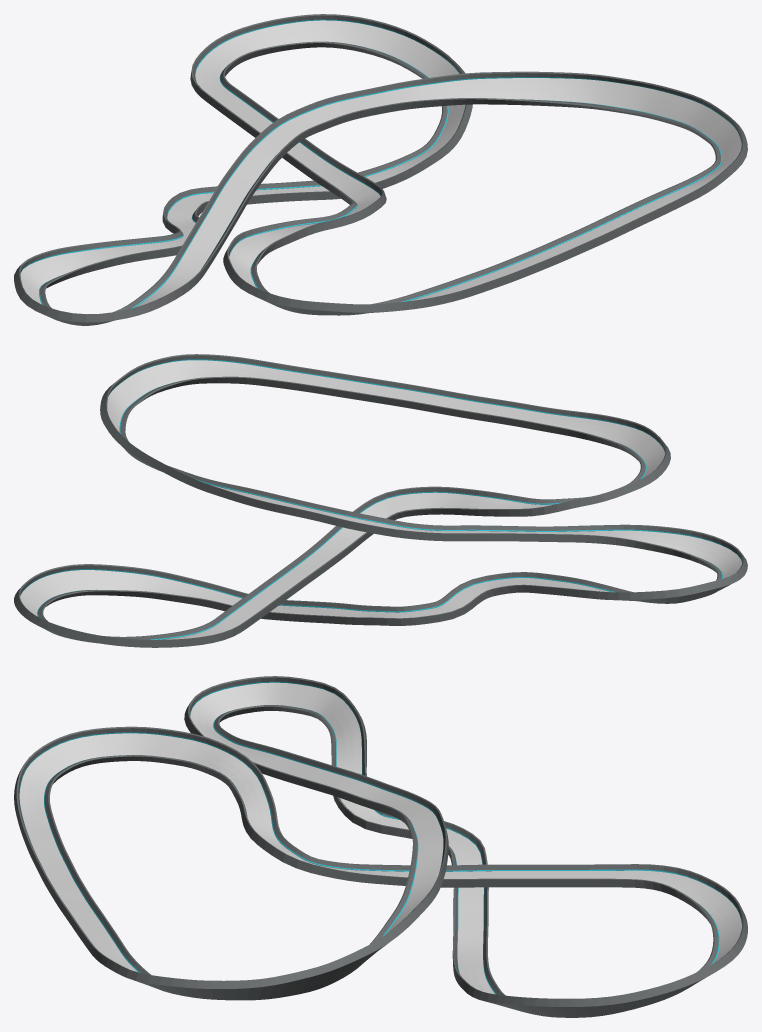
Rendered from track3BFBX.fbx.
The picture shows the model from 3 angles, top to bottom: view 1: azimuth 30°, elevation 25°; view 2: azimuth 150°, elevation 25°; view 3: azimuth 270°, elevation 25°; orthographic projection. The views are drawn at different scales.
Visible parts, largest first — view 1: Walls, Floor; view 2: Walls, Floor; view 3: Walls, Floor.
Boxes of the visible parts, bbox=[...] form: Walls: bbox=[14, 14, 747, 325]; Floor: bbox=[20, 20, 741, 307]; Walls: bbox=[14, 354, 747, 647]; Floor: bbox=[20, 360, 741, 639]; Walls: bbox=[14, 676, 747, 1017]; Floor: bbox=[19, 682, 741, 994].
Bounding box in the file's own units: 185889 × 28367 × 166786.
